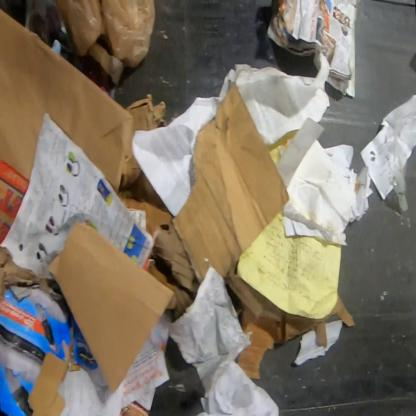cardboard: (0, 6, 134, 246), (171, 78, 290, 285), (45, 220, 178, 396), (117, 93, 200, 322), (0, 246, 100, 415), (225, 264, 356, 380), (89, 38, 124, 86)
rigid_plastic: (385, 96, 415, 215)
soft_plastic: (53, 0, 156, 71)
